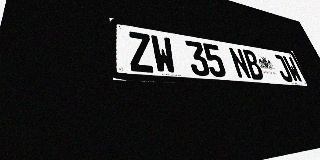3: (185, 40, 211, 77)
5: (202, 43, 228, 78)
B: (241, 49, 265, 80)
J: (272, 54, 294, 82)
N: (228, 47, 252, 79)
W: (150, 35, 178, 74), (282, 56, 304, 83)
Z: (127, 31, 155, 73)
